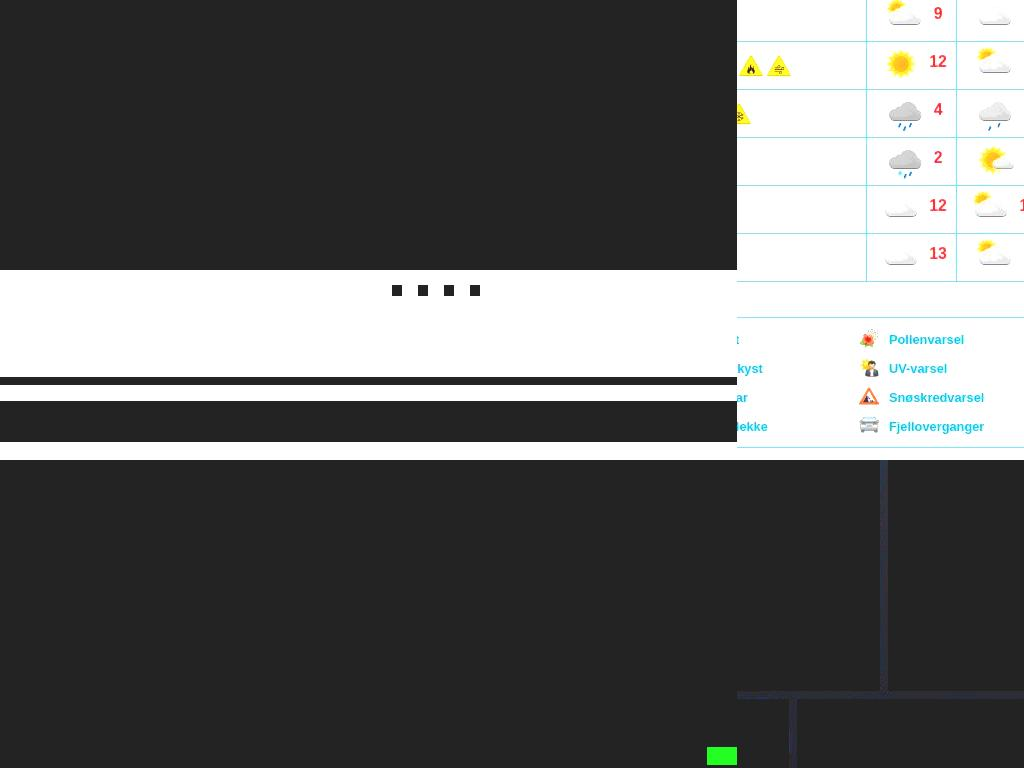button: (445, 709, 737, 768), (0, 250, 737, 270), (108, 644, 347, 669), (631, 736, 737, 768), (699, 659, 737, 675), (859, 328, 879, 352), (859, 357, 879, 381), (859, 386, 879, 410), (859, 415, 879, 439)
heading: (0, 461, 737, 641), (0, 401, 737, 442), (0, 0, 360, 45), (445, 554, 737, 579)
image: (0, 460, 737, 768), (0, 0, 737, 266), (248, 0, 737, 269), (737, 460, 880, 691), (888, 460, 1024, 691), (766, 53, 792, 78), (739, 53, 764, 78), (737, 101, 752, 126), (392, 285, 402, 296), (418, 285, 428, 296), (444, 285, 454, 296), (470, 285, 480, 296)
link: (0, 0, 248, 45)
text: (0, 644, 737, 698), (445, 596, 737, 674), (0, 644, 108, 668), (889, 390, 984, 405), (889, 419, 984, 434), (889, 332, 964, 347), (631, 748, 697, 763), (889, 361, 947, 376), (707, 747, 737, 765), (737, 419, 768, 434), (737, 361, 763, 376), (929, 51, 947, 72), (929, 195, 947, 216), (929, 243, 947, 264), (933, 3, 943, 24), (933, 99, 943, 120), (933, 147, 943, 168), (1019, 195, 1024, 216)
